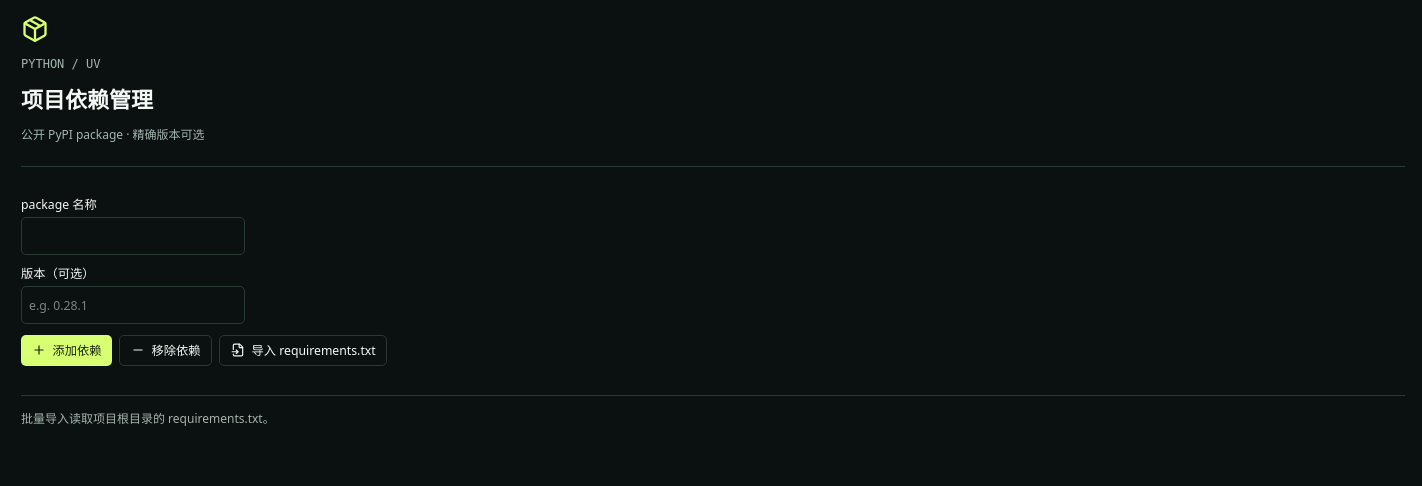
Test: PythonDependenciesPanel rejected changes › answers PROJECT_LOCKED as a proven pre-flight rejection: id cleared, Run message, no recovery
This screenshot has width=1422, height=486.
Type "httpx" into the field named "Package name". click: (133, 236)
box: [21, 216, 245, 254]
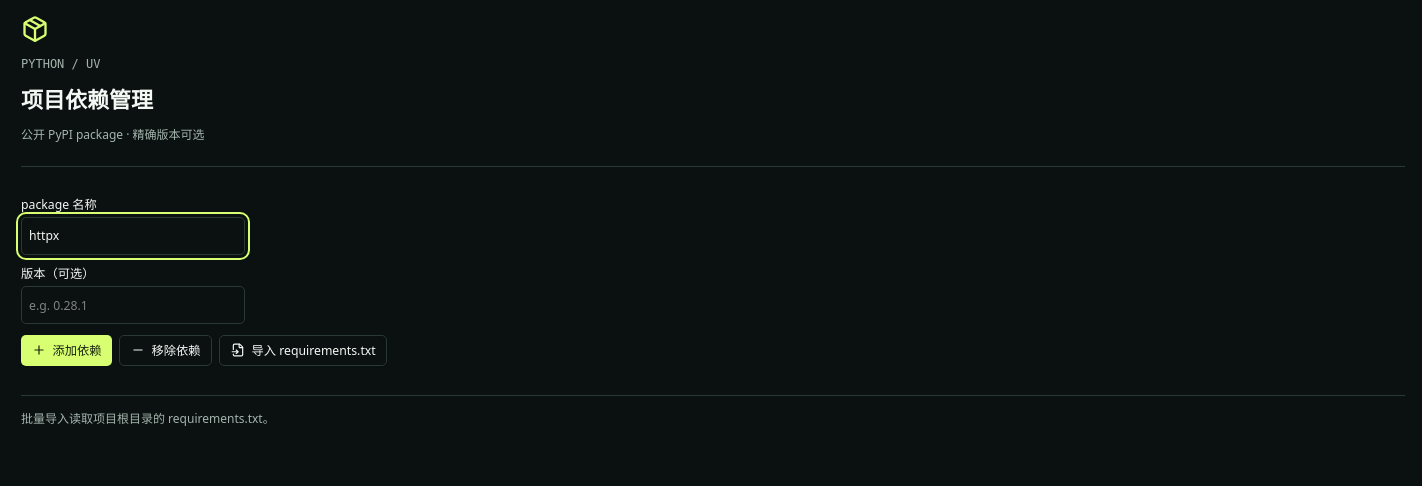
Click the button with aria-label "Add dependency". click: (66, 350)
box: [21, 334, 112, 366]
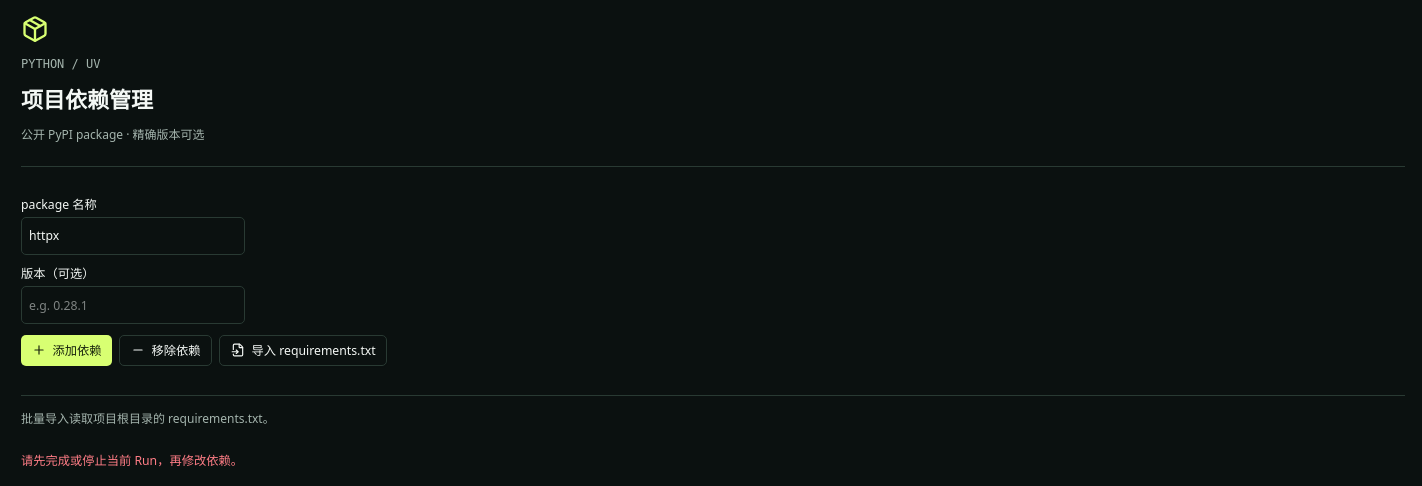
Expected: the message "请先完成或停止当前 Run，再修改依赖。" is shown, [21, 452, 243, 469]
